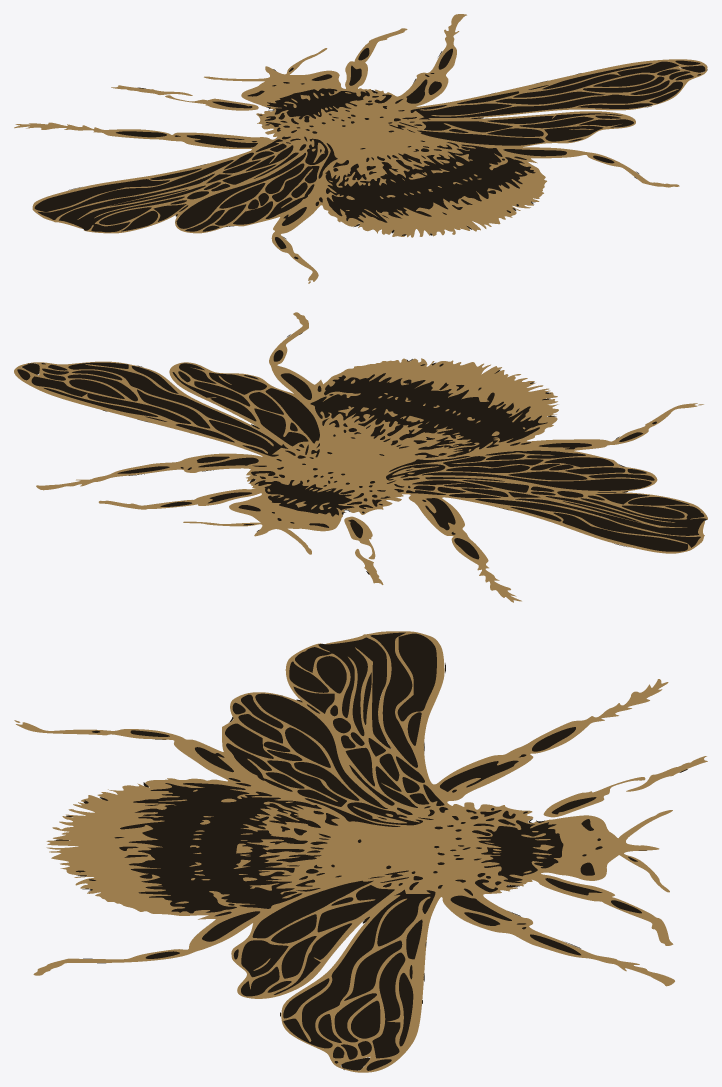
Rendered from comuneros.gltf.
The picture shows the model from 3 angles, top to bottom: view 1: azimuth 30°, elevation 25°; view 2: azimuth 150°, elevation 25°; view 3: azimuth 270°, elevation 25°; orthographic projection. The views are drawn at different scales.
Visible parts, largest first — view 1: Curve; view 2: Curve; view 3: Curve.
Part boxes in pixels (x1,y1,x2,y2): Curve: (14, 14, 707, 283); Curve: (14, 312, 707, 602); Curve: (14, 631, 707, 1072).
Bounding box in the file's own units: 0.083 × 0 × 0.0552.
